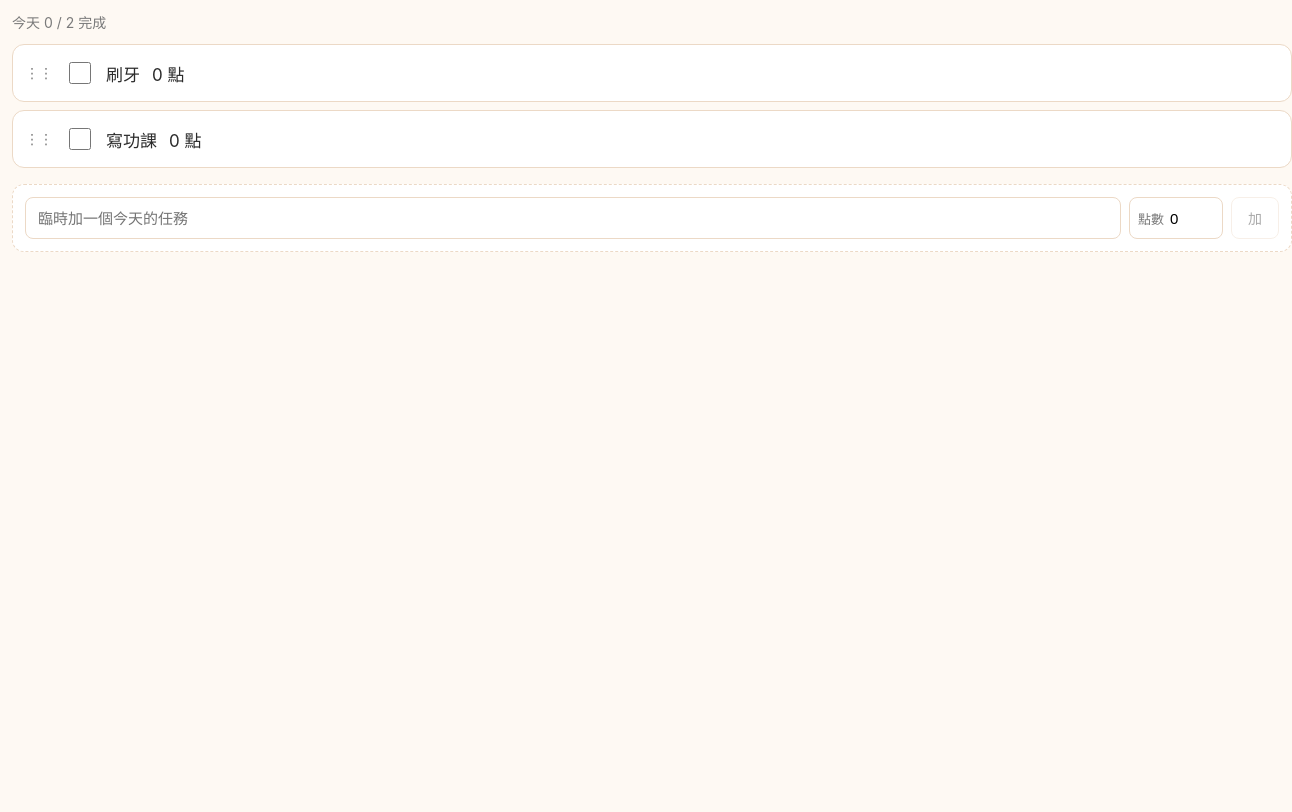
Test case: TodayPage › lists today tasks, lets the user check, and shows reward banner when all done
The image size is (1292, 812).
Expected: the text "今天 0 / 2 完成" is shown, [12, 14, 106, 31]
Expected: the text "今天全部完成了！" is not shown
Click the checkbox labelled "刷牙" at (80, 73), box [69, 62, 91, 84]
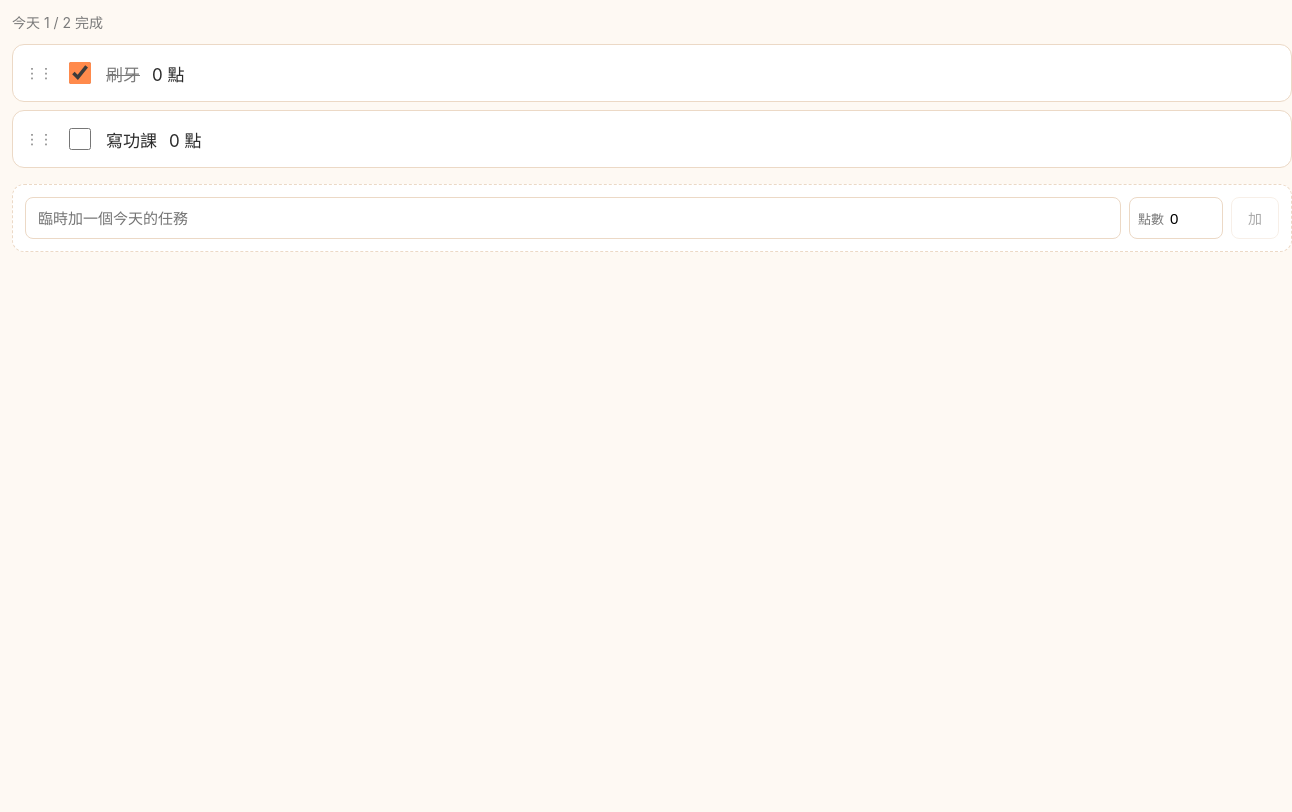
Expected: the text "今天 1 / 2 完成" is shown, [12, 14, 103, 31]
Click the checkbox labelled "寫功課" at (80, 139), box [69, 128, 91, 150]
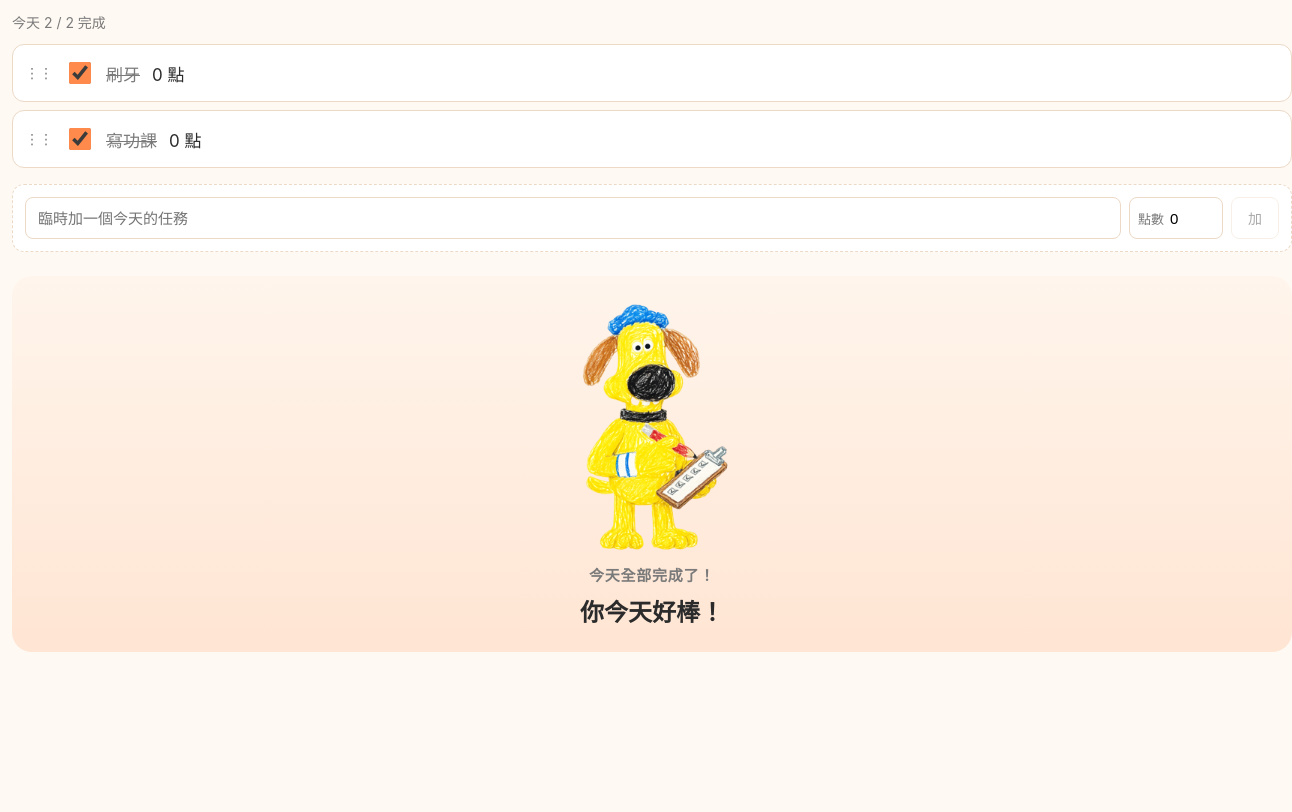
Expected: the text "今天 2 / 2 完成" is shown, [12, 14, 106, 31]
Expected: the text "今天全部完成了！" is shown, [589, 566, 715, 585]
